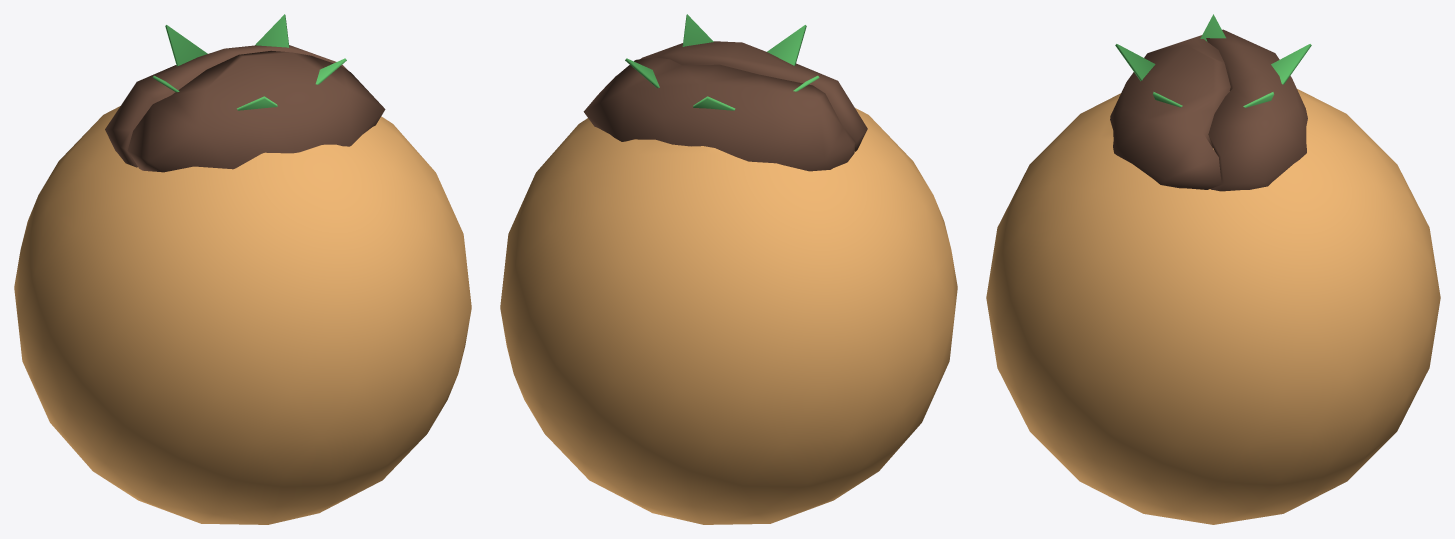
The model's file is Berry.fbx.
The picture shows the model from 3 angles, left to right: view 1: azimuth 30°, elevation 25°; view 2: azimuth 150°, elevation 25°; view 3: azimuth 270°, elevation 25°; orthographic projection.
Visible parts, largest first — view 1: Berry, PodLeft, PodRight, Berry Leaves; view 2: Berry, PodRight, PodLeft, Berry Leaves; view 3: Berry, PodLeft, PodRight, Berry Leaves.
Boxes of the visible parts, x1,y1,x2,y2 form: Berry: (14, 106, 471, 524); PodLeft: (127, 50, 385, 172); PodRight: (105, 45, 347, 167); Berry Leaves: (152, 14, 346, 110); Berry: (500, 108, 957, 524); PodRight: (583, 57, 855, 171); PodLeft: (605, 41, 867, 151); Berry Leaves: (625, 14, 819, 110); Berry: (986, 89, 1440, 524); PodLeft: (1110, 35, 1230, 189); PodRight: (1206, 29, 1307, 191); Berry Leaves: (1115, 14, 1311, 107).
Size of the model in its own units: 6 by 6.51 by 6.
